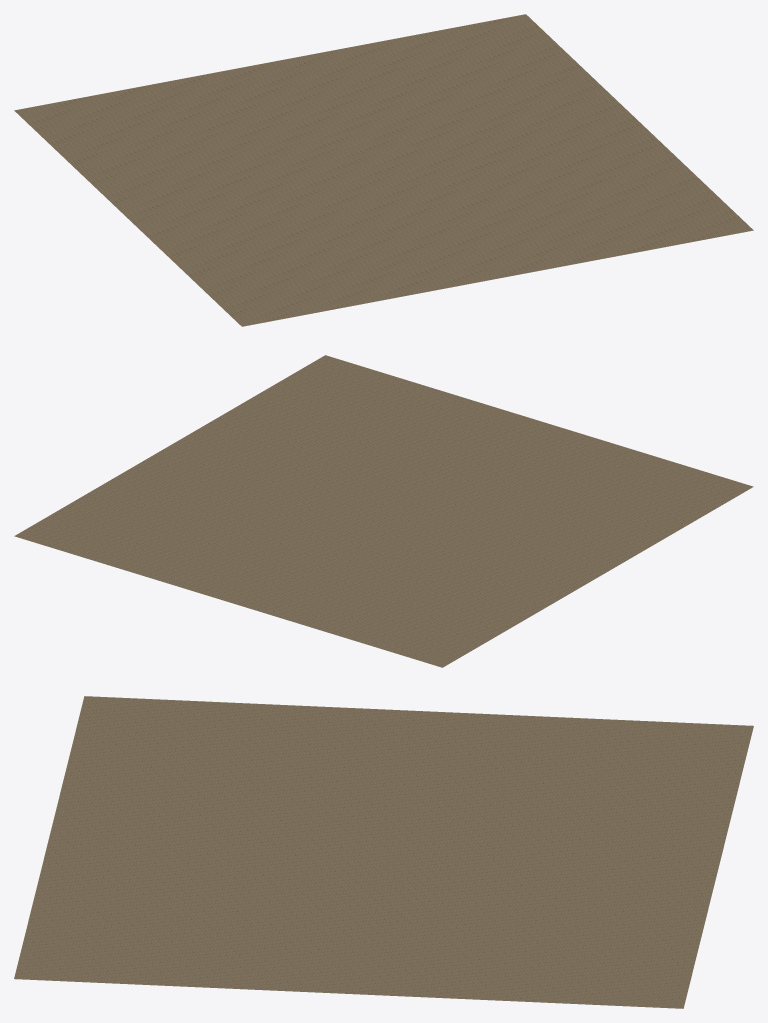
File: Truck_Ground-transformed.glb
3 renders of one model, top to bottom at view 1: azimuth 30°, elevation 25°; view 2: azimuth 150°, elevation 25°; view 3: azimuth 270°, elevation 25°, orthographic. The views are drawn at different scales.
Parts seen in each view (by area): view 1: Ground; view 2: Ground; view 3: Ground.
Boxes of the visible parts, <box> form: Ground: <box>14,14,753,326</box>; Ground: <box>14,355,753,667</box>; Ground: <box>14,696,753,1008</box>.
Size of the model in its own units: 4396 by 0 by 4396.
1 material, 1 textured.
